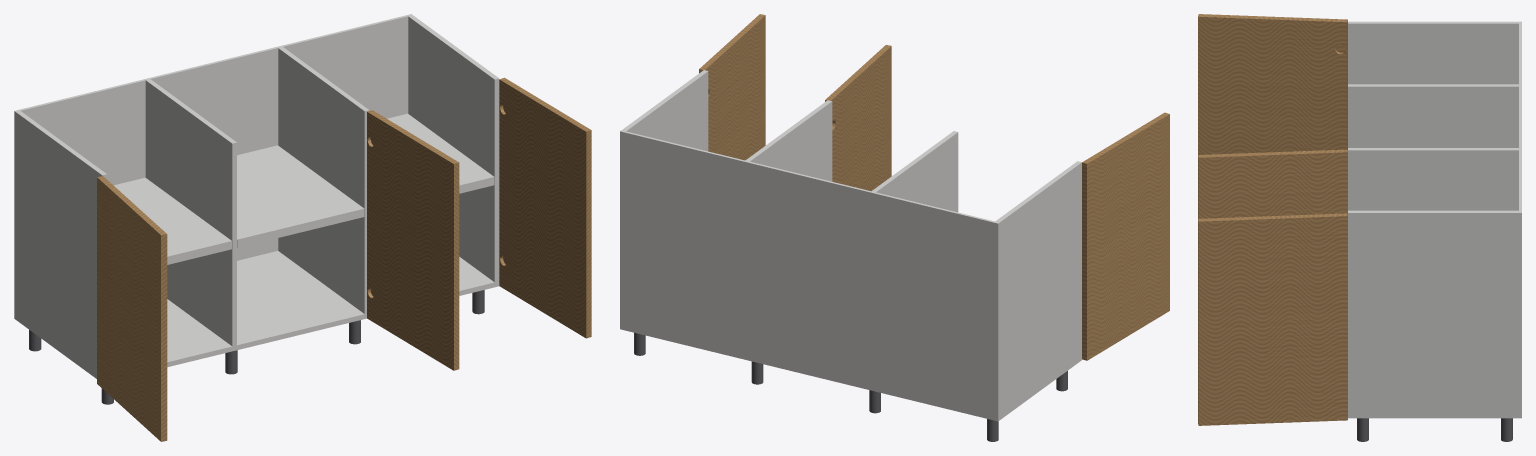
The model's file is w1500_none_default_open.glb.
The picture shows the model from 3 angles, left to right: view 1: azimuth 30°, elevation 25°; view 2: azimuth 150°, elevation 25°; view 3: azimuth 270°, elevation 25°; orthographic projection. The views are drawn at different scales.
Visible parts, largest first — view 1: white, oak, leg; view 2: white, oak, leg; view 3: white, oak, leg.
Part boxes in pixels (x1,y1,x2,y2): white: (14, 14, 499, 378); oak: (97, 77, 591, 441); leg: (29, 290, 484, 404); white: (620, 70, 1081, 421); oak: (699, 14, 1169, 360); leg: (634, 332, 1067, 441); white: (1348, 21, 1521, 418); oak: (1198, 14, 1347, 425); leg: (1357, 418, 1512, 441).
Size of the model in its own units: 1.63 by 0.85 by 1.07.
Materials: 3 (1 with a texture image).
